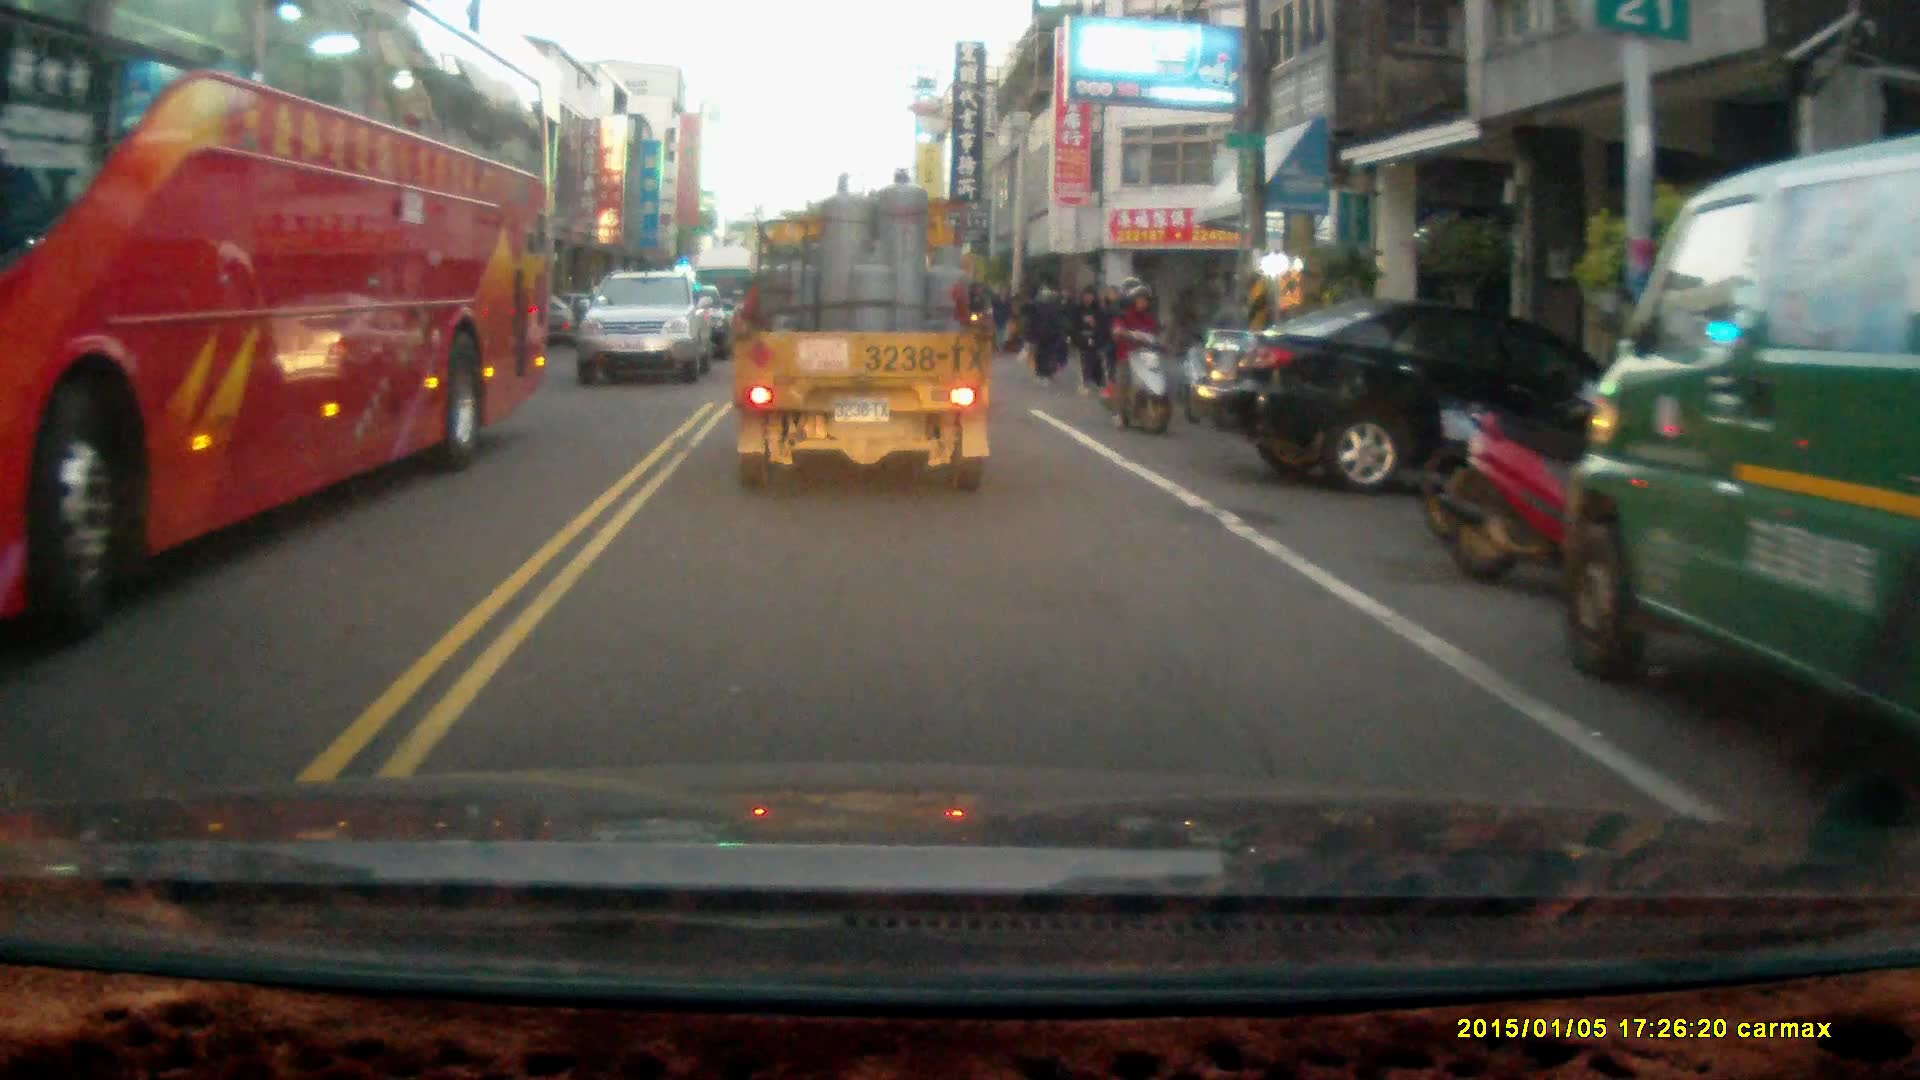pedestrian: (1070, 282, 1111, 399), (1024, 282, 1063, 382), (989, 286, 1013, 357)
rider: (1106, 275, 1173, 437)
vehicle: (1, 7, 559, 646), (1568, 130, 1920, 736), (1181, 302, 1672, 492), (728, 164, 999, 498), (575, 271, 712, 386)
